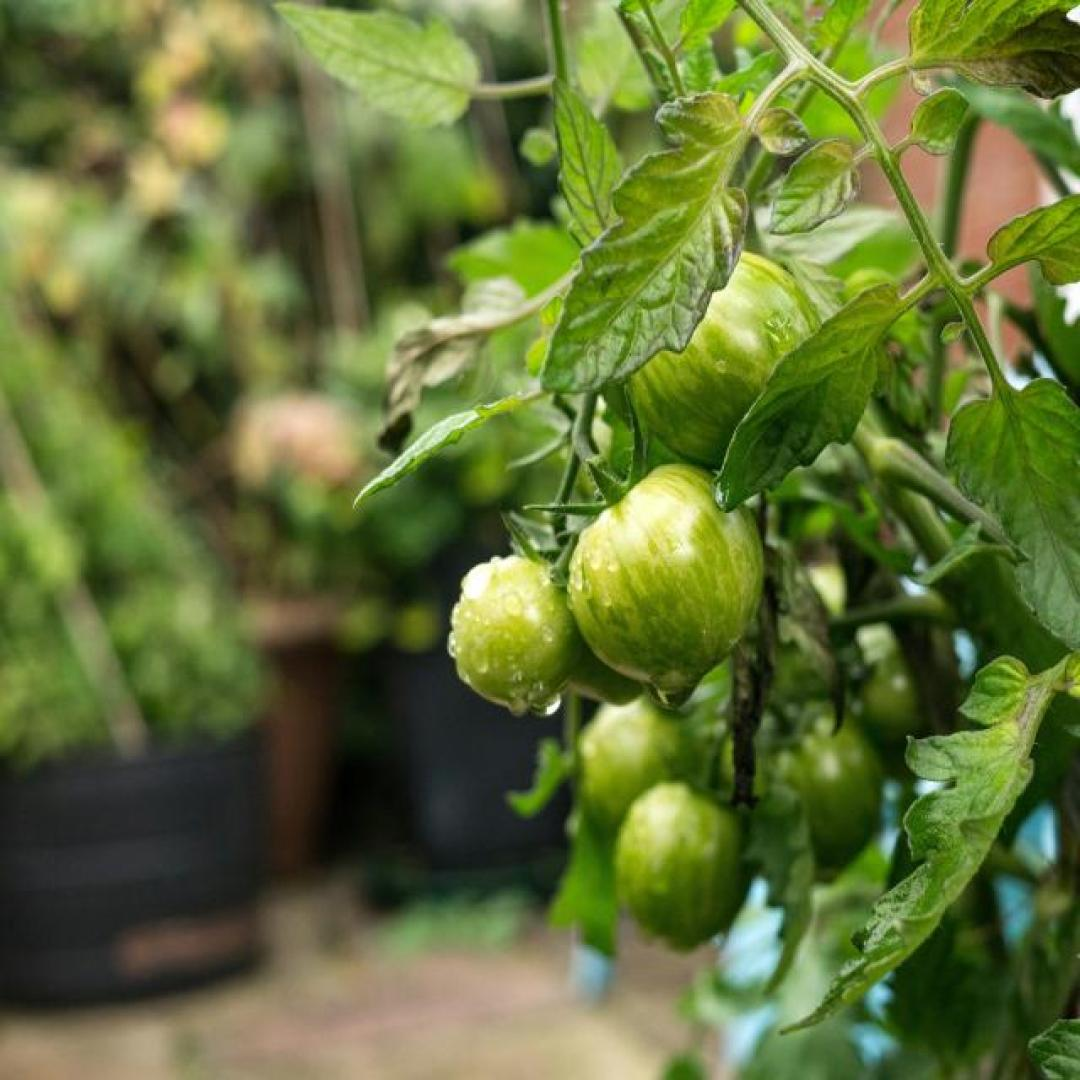mentah: (622, 250, 834, 474), (565, 461, 768, 685), (452, 557, 591, 712)
